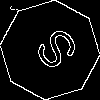S: (25, 25, 81, 79)
